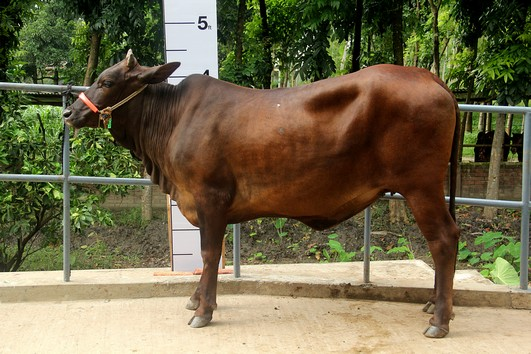cow: (58, 45, 469, 348)
